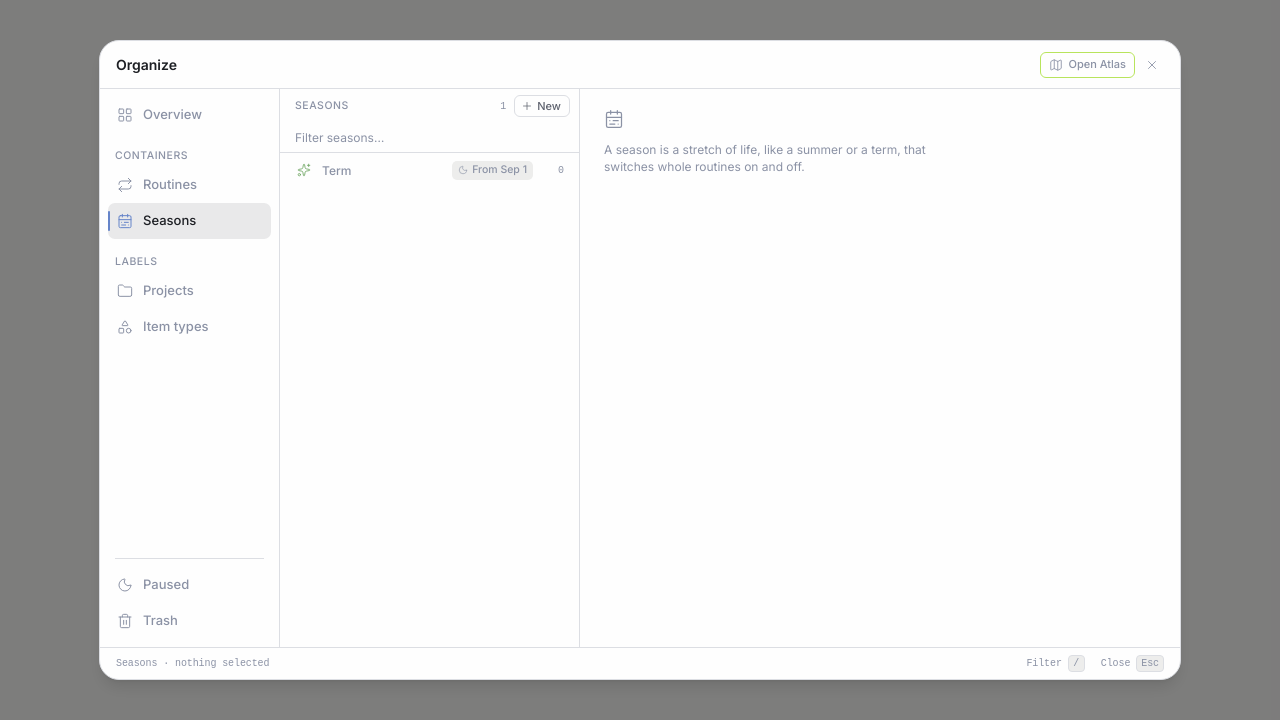
it: the seasons section › states what auto with {"startsOn":"2026-09-01"} actually means
The width and height of the screenshot is (1280, 720).
Click the button with test id "season-row" at (493, 170), box [288,153,571,187]
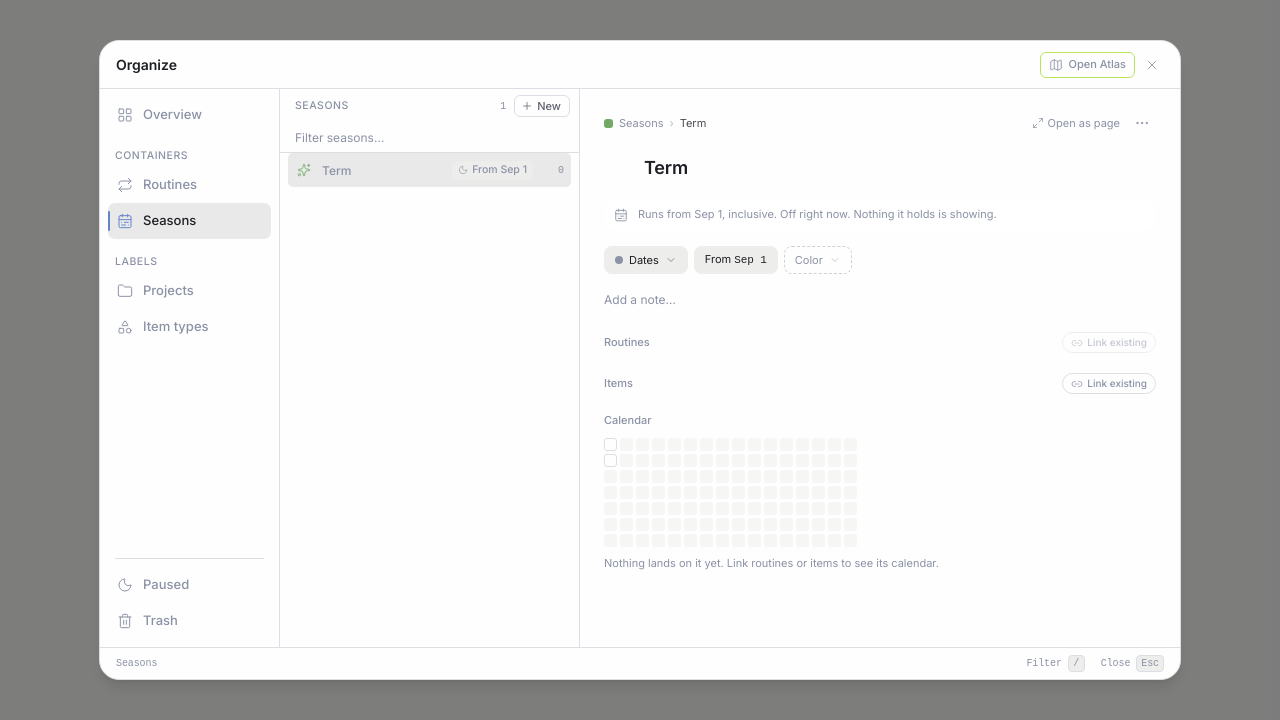
Expected: the element with test id "season-state-note" shows "Runs from Sep 1, inclusive. Off right now", [638,207,997,221]
